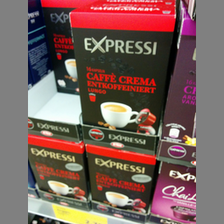coffee: (68, 2, 175, 135), (84, 144, 157, 213), (28, 133, 89, 199)
